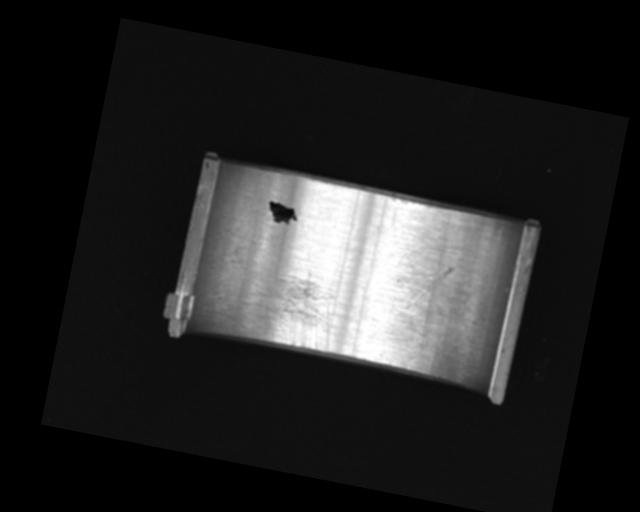blot: (264, 199, 301, 227)
nick: (408, 260, 456, 316)
scratch: (224, 258, 341, 356)
